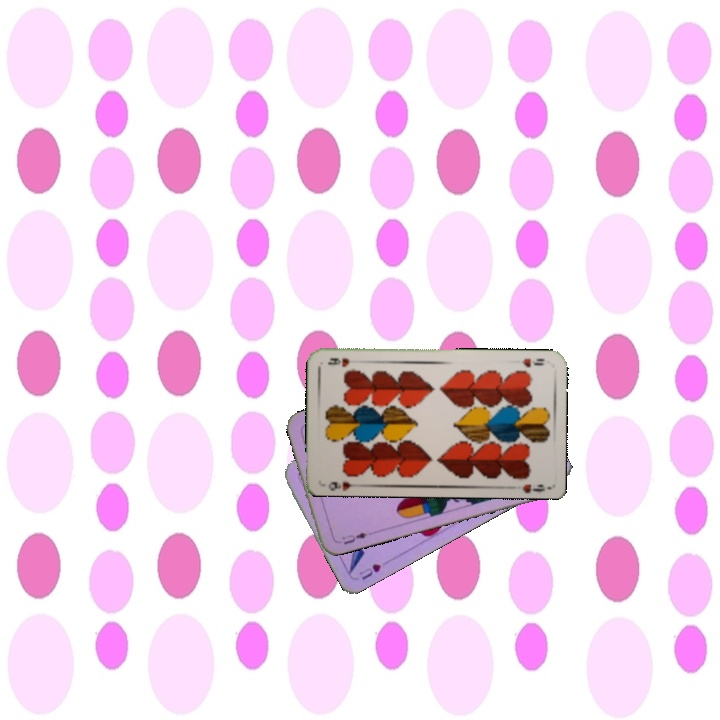EU: (333, 528, 370, 547)
H9: (324, 477, 361, 491), (518, 354, 547, 369)
HU: (355, 559, 384, 583)
